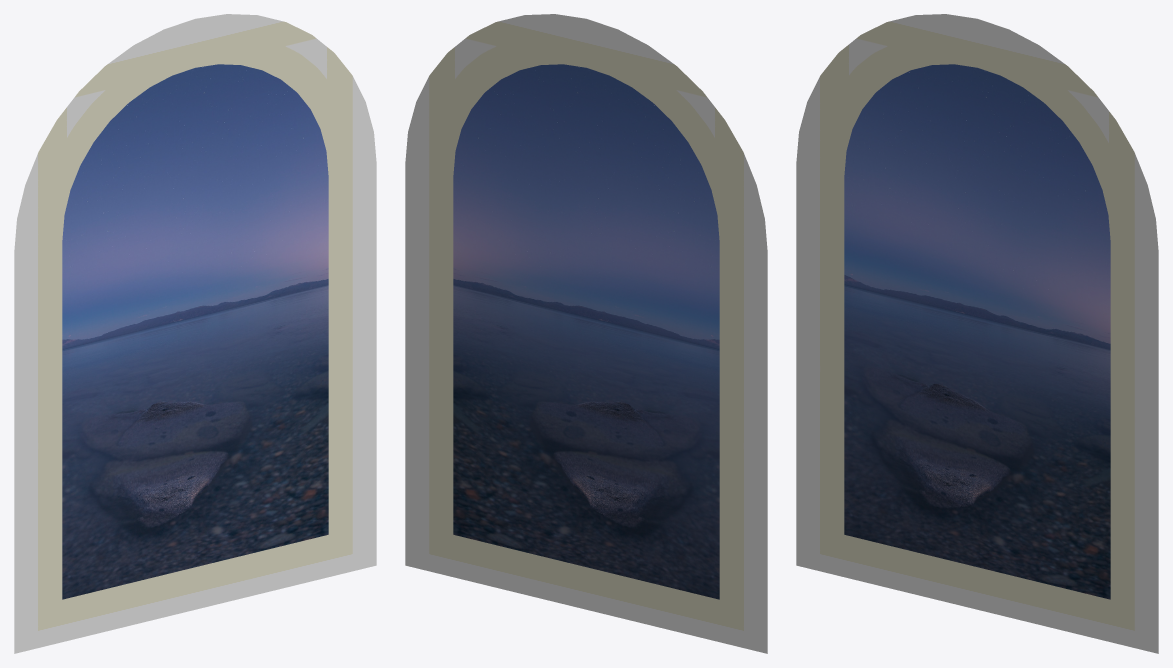
Rendered from door_lake_wglow_02.glb.
The picture shows the model from 3 angles, left to right: view 1: azimuth 30°, elevation 25°; view 2: azimuth 150°, elevation 25°; view 3: azimuth 330°, elevation 25°; orthographic projection.
Parts seen in each view (by area): view 1: door_desert, door_glow; view 2: door_desert, door_glow; view 3: door_desert, door_glow.
Boxes of the visible parts, left/top/right/bottom form: door_desert: left=62, top=64, right=328, bottom=599; door_glow: left=14, top=14, right=376, bottom=653; door_desert: left=453, top=64, right=719, bottom=599; door_glow: left=405, top=14, right=767, bottom=653; door_desert: left=844, top=64, right=1110, bottom=599; door_glow: left=796, top=14, right=1158, bottom=653.
Bounding box in the file's own units: 0.9 × 1.4 × 0.
2 materials, 2 textured.
